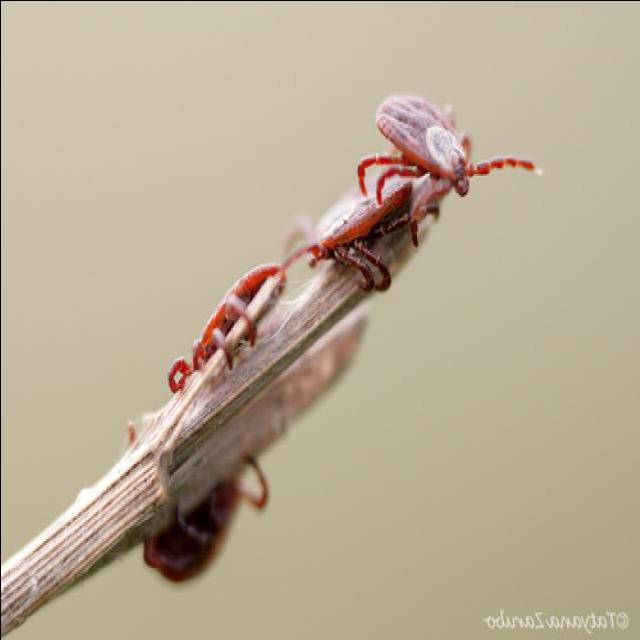Dermacentor Reticulatus-F: (360, 94, 540, 242)
